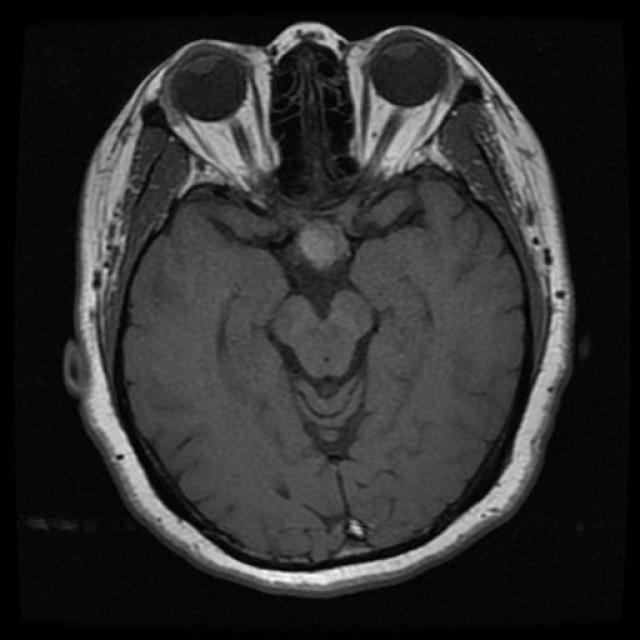pituitary: (288, 220, 368, 290)
